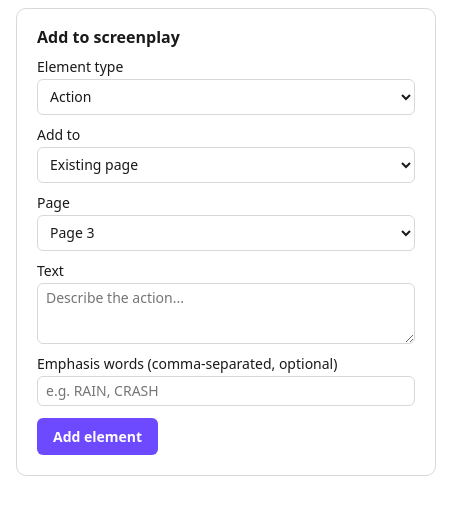
Test case: validation › clears the error after a successful add
Submit the form
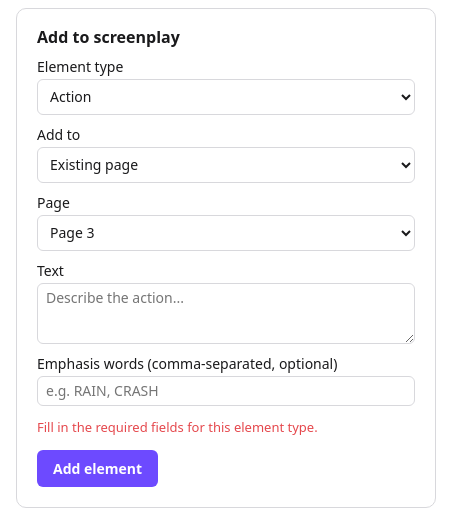
Type "ok" into the text box labelled "Text". click: [226, 313]
box: x1=37 y1=283 x2=415 y2=344
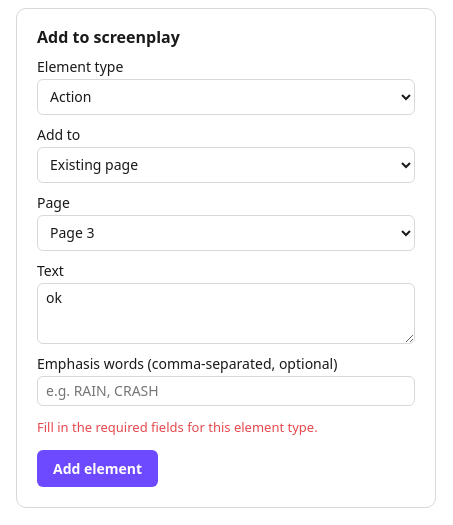
Submit the form
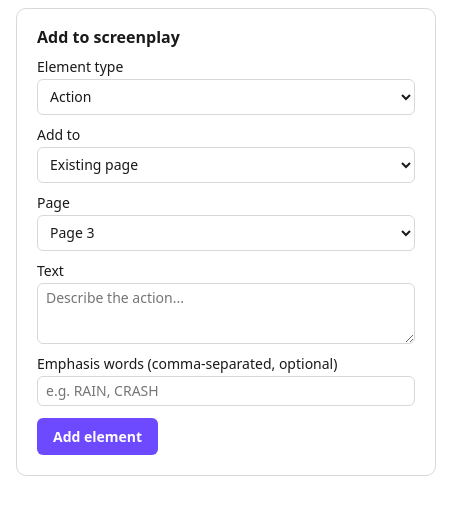
Now the text with class "form-error" is gone
